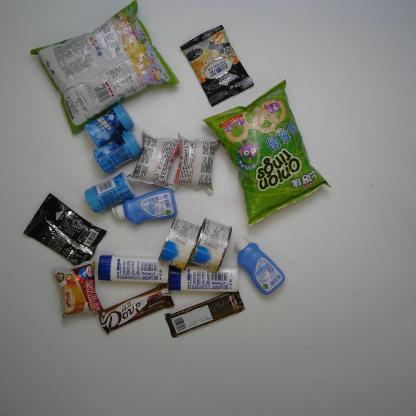Canned Food: (158, 217, 202, 271), (190, 217, 233, 272)
Chocolate: (98, 283, 176, 335), (164, 290, 246, 338)
Dessert: (50, 258, 104, 324), (170, 132, 221, 196), (126, 128, 180, 188)
Gum: (84, 102, 135, 149), (92, 129, 142, 176), (84, 171, 136, 214)
Instant Drink: (22, 192, 108, 268), (179, 23, 254, 108)
Personal Hygiene: (234, 233, 286, 296), (110, 188, 178, 226), (98, 254, 169, 284), (168, 265, 239, 293)
Puffed Food: (28, 0, 180, 139), (202, 79, 333, 227)
